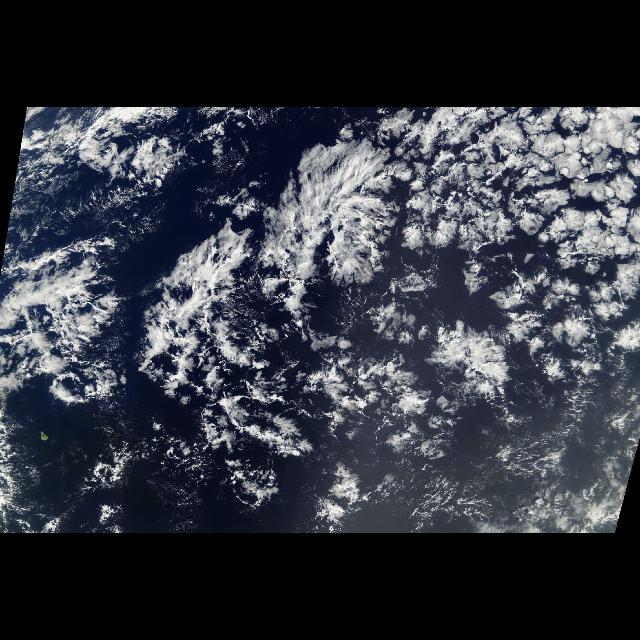Fish: (132, 142, 384, 384)
Flower: (386, 115, 628, 317)
